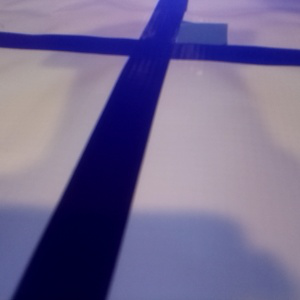top_right: (148, 21, 227, 58)
